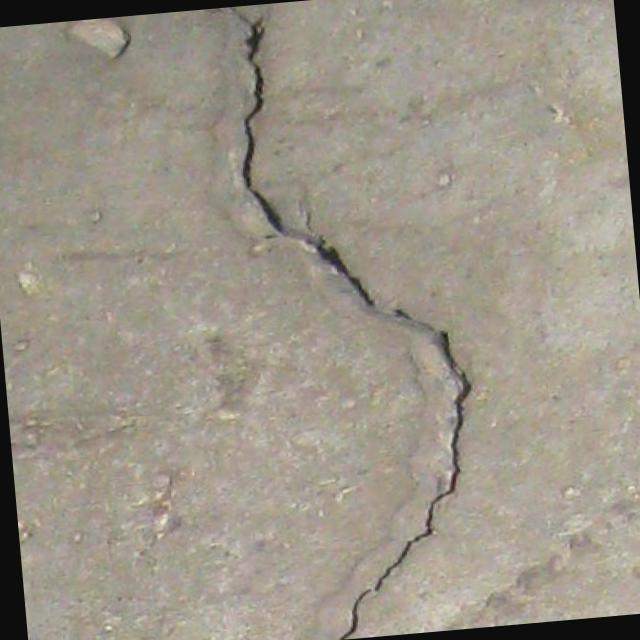crack: (214, 0, 495, 640)
